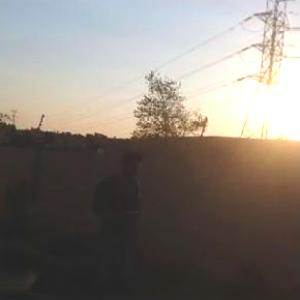follow: (91, 146, 150, 299)
